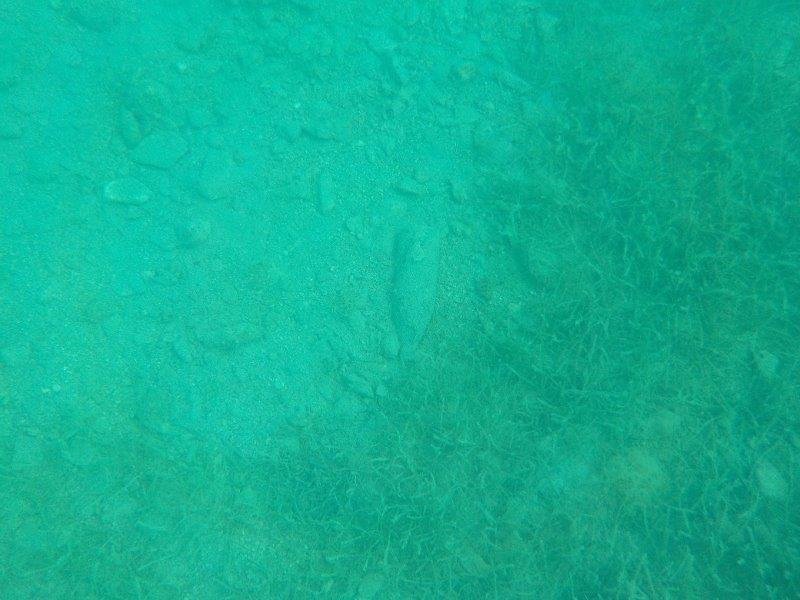bottle: (379, 213, 451, 371)
